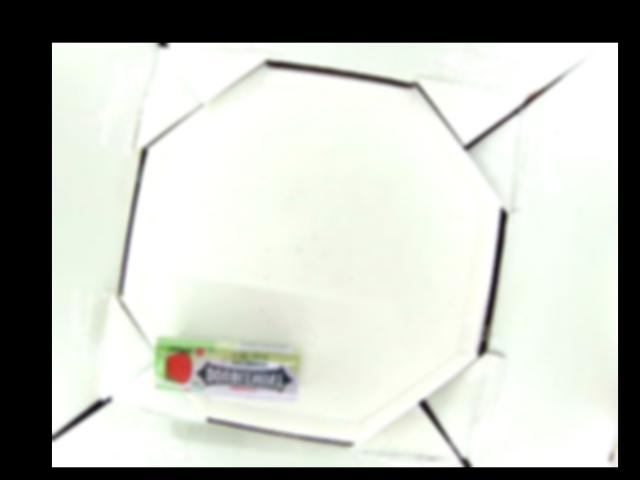Bottle: (150, 334, 299, 396)
